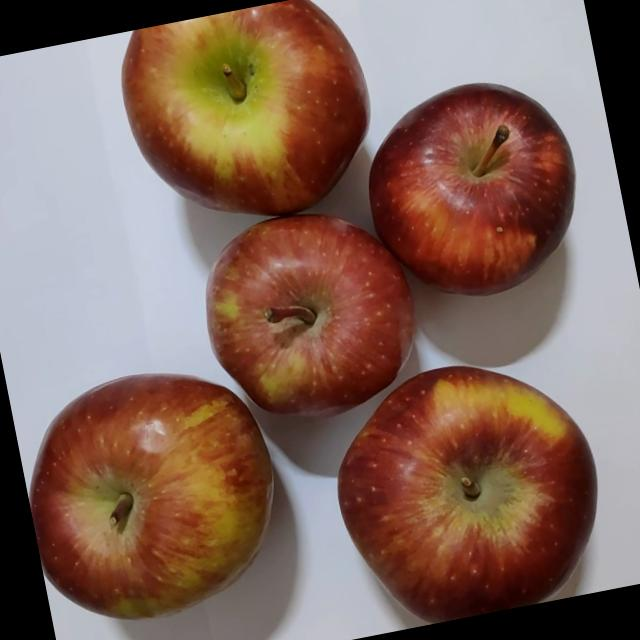apple: (304, 340, 614, 640), (8, 346, 302, 640), (99, 0, 394, 255), (338, 64, 598, 330), (173, 190, 437, 451)
